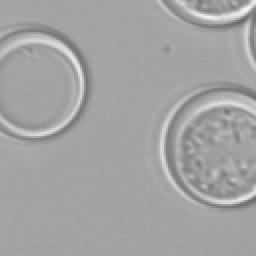picoshell: (158, 90, 254, 204), (0, 32, 84, 136), (158, 0, 254, 24), (250, 14, 254, 60)
